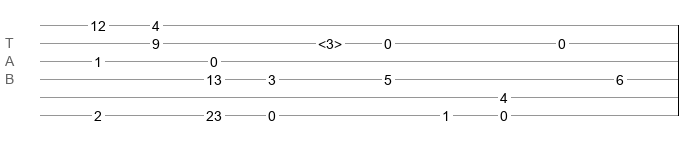0: (210, 54, 218, 64), (268, 108, 276, 118), (384, 36, 392, 46), (500, 108, 508, 118), (558, 36, 566, 46)
1: (94, 54, 102, 64), (442, 108, 450, 118)
12: (90, 18, 106, 28)
13: (206, 72, 222, 82)
2: (94, 108, 102, 118)
23: (206, 108, 222, 118)
3: (268, 72, 276, 82)
4: (152, 18, 160, 28), (500, 90, 508, 100)
5: (384, 72, 392, 82)
6: (616, 72, 624, 82)
9: (152, 36, 160, 46)
harmonic: (318, 36, 342, 46)
